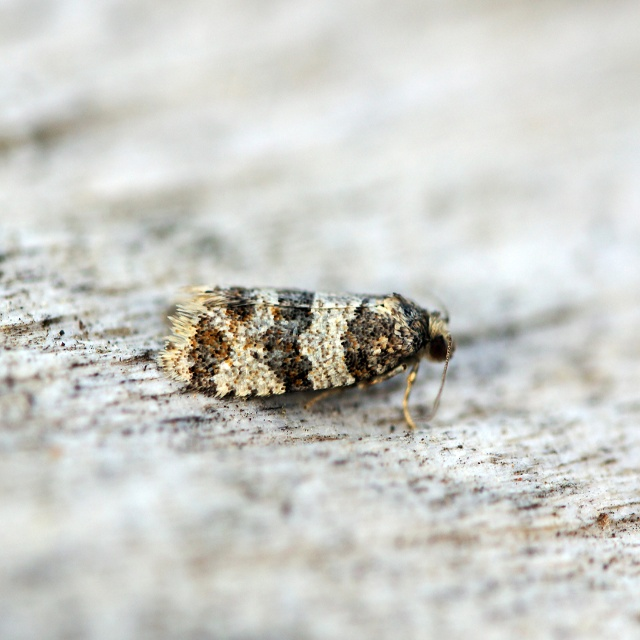Moths and butterflies: (154, 283, 469, 425)
